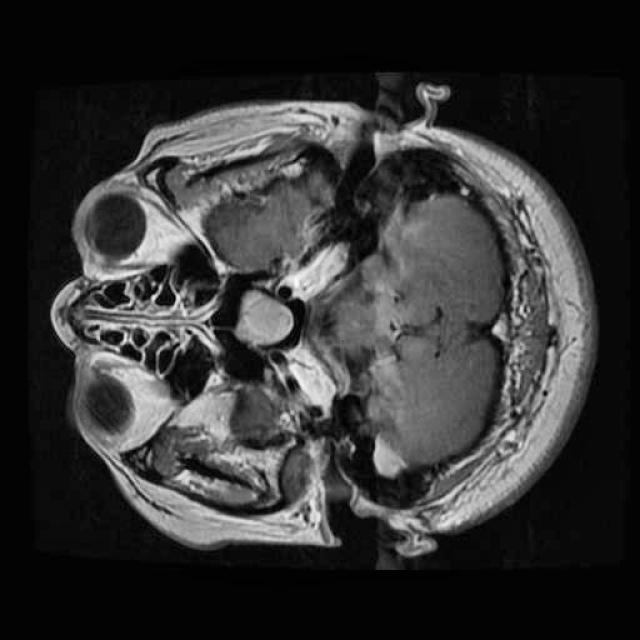Tumor: (226, 276, 302, 362)
